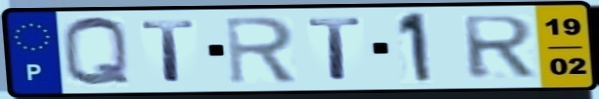1: (395, 10, 435, 86)
Q: (58, 14, 135, 90)
R: (222, 15, 301, 87), (458, 13, 539, 81)
T: (305, 16, 367, 82), (138, 18, 199, 84)
